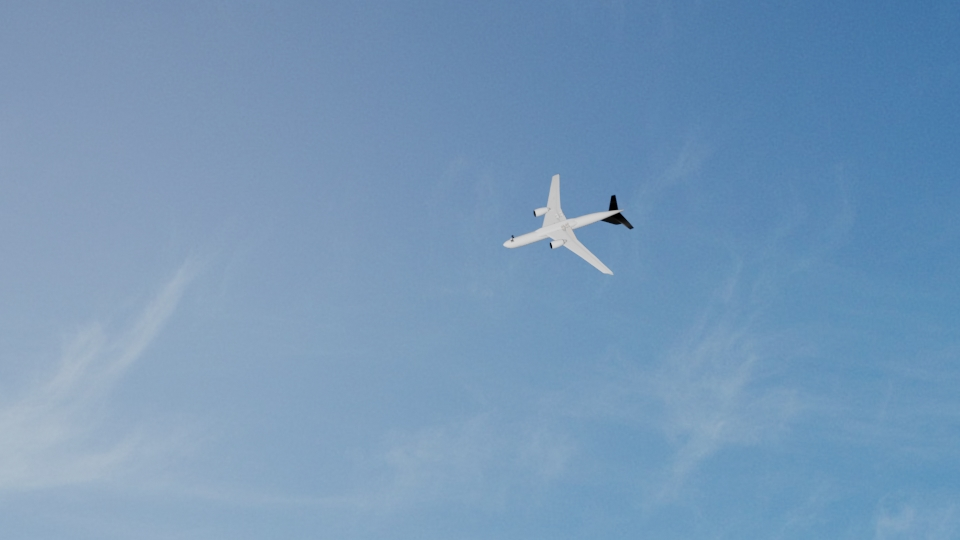plane: (502, 174, 634, 279)
